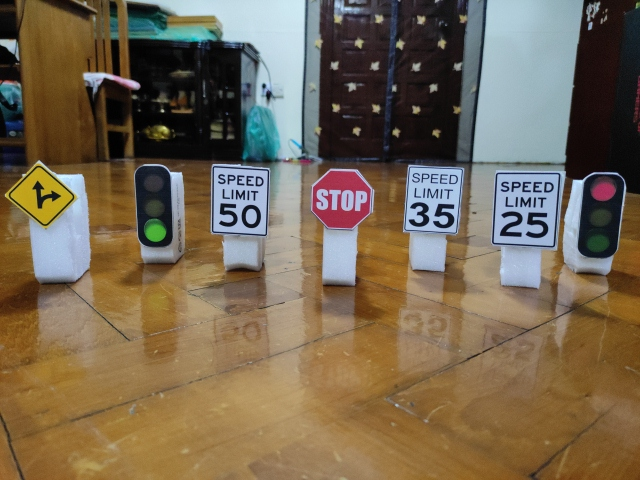Green Traffic Light: (133, 164, 175, 249)
Red Traffic Light: (578, 172, 627, 259)
Speed Limit 25: (491, 170, 564, 249)
Speed Limit 35: (403, 165, 465, 234)
Speed Limit 50: (210, 161, 272, 238)
Stop Sign: (310, 167, 375, 231)
Straight Or Right Sign: (7, 164, 77, 227)
